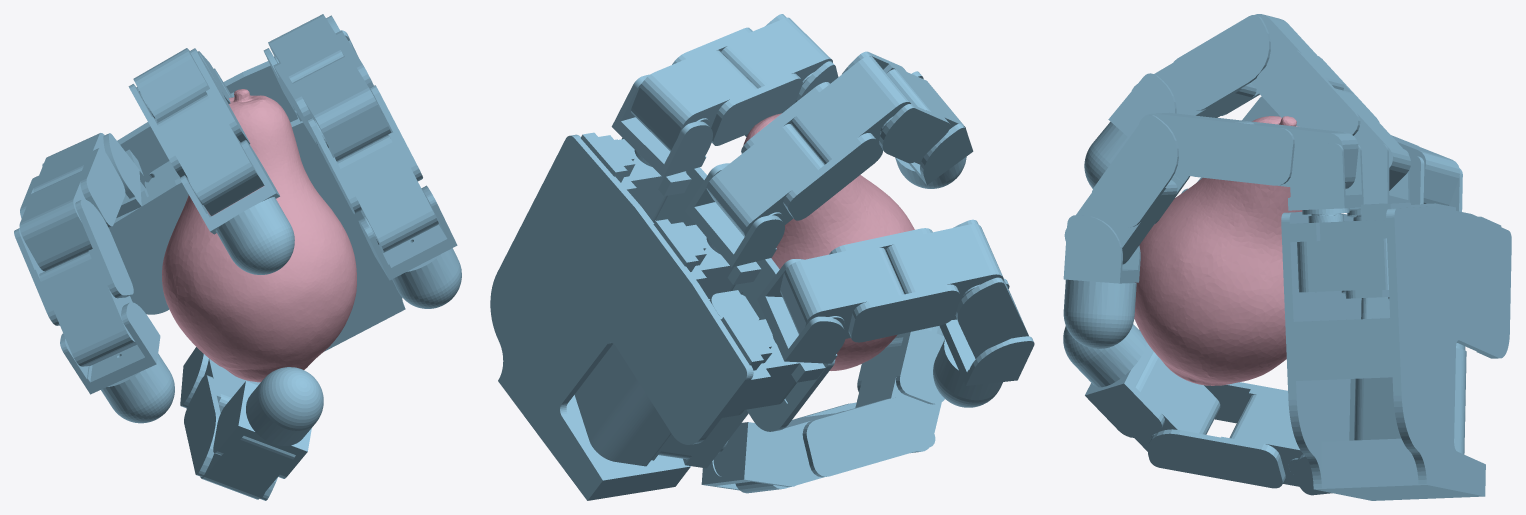
The picture shows the model from 3 angles, left to right: view 1: azimuth 30°, elevation 25°; view 2: azimuth 150°, elevation 25°; view 3: azimuth 270°, elevation 25°; orthographic projection. The views are drawn at different scales.
Visible parts, largest first — view 1: world, pear.stl; view 2: world, pear.stl; view 3: world, pear.stl.
Part boxes in pixels (x1,y1,x2,y2): world: (14, 14, 461, 500); pear.stl: (162, 89, 356, 382); world: (490, 14, 1034, 500); pear.stl: (743, 113, 914, 370); world: (1063, 14, 1511, 500); pear.stl: (1134, 116, 1302, 385).
Bounding box in the file's own units: 0.1799 × 0.1642 × 0.1515.
